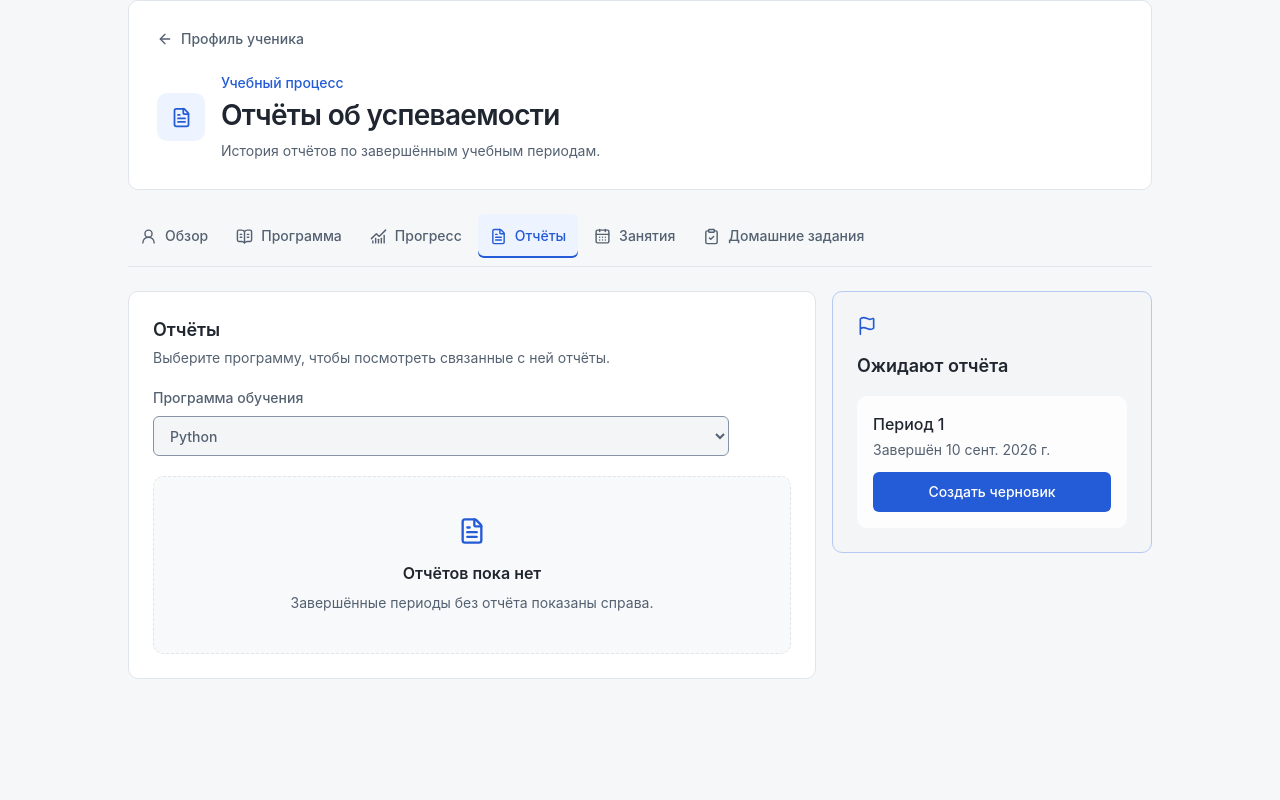
Test case: TeacherStudentReportsView › refreshes report data when the period already has a report
Click the button with aria-label "Создать черновик для периода 1": coordinates (992, 492) top-left (873, 472), bottom-right (1111, 512)
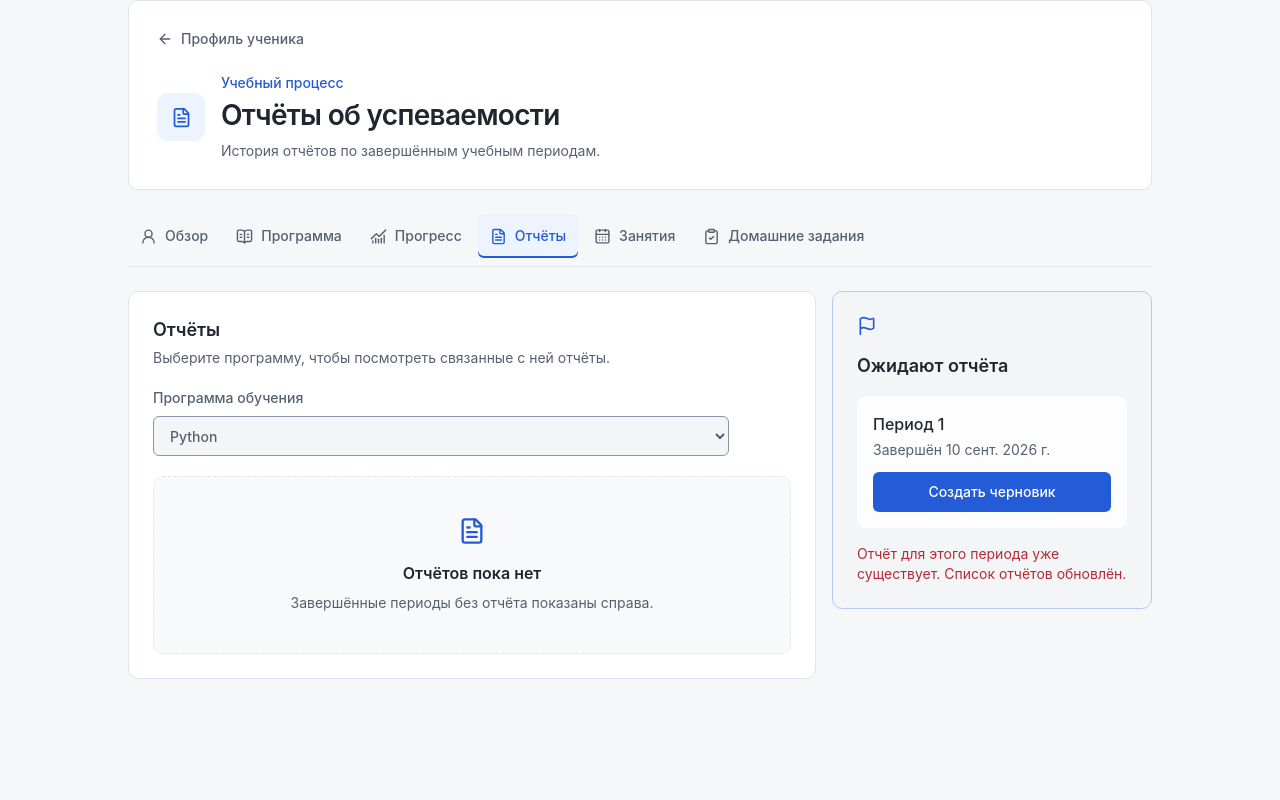
Expected: the message shows "Отчёт для этого периода уже существует", top-left (857, 545), bottom-right (1126, 582)
